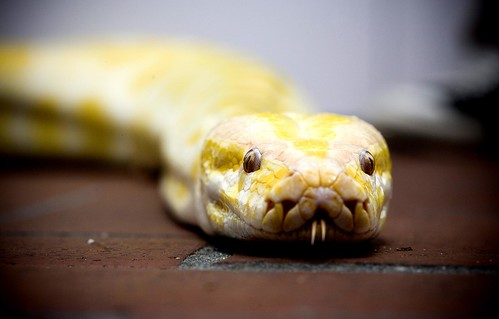animal: (128, 62, 401, 262)
